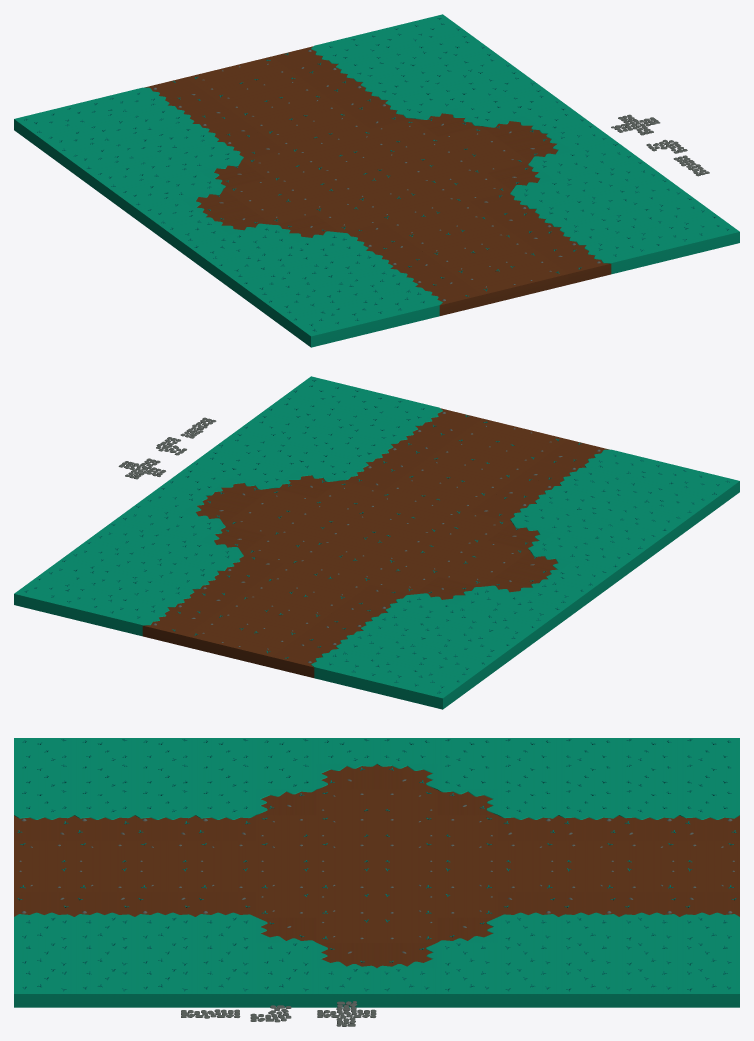
The model's file is ertttt.fbx.
The picture shows the model from 3 angles, top to bottom: view 1: azimuth 30°, elevation 25°; view 2: azimuth 150°, elevation 25°; view 3: azimuth 270°, elevation 25°; orthographic projection. The views are drawn at different scales.
Visible parts, largest first — view 1: corner_grass4, corner_grass3, junction_tiles; view 2: corner_grass3, corner_grass4, junction_tiles; view 3: corner_grass3, corner_grass4, junction_tiles.
Part boxes in pixels (x1,y1,x2,y2): corner_grass4: (162,123,739,347); corner_grass3: (14,14,590,238); junction_tiles: (611,114,660,135); corner_grass3: (14,485,591,709); corner_grass4: (163,376,739,600); junction_tiles: (118,458,165,479); corner_grass3: (377,738,739,1007); corner_grass4: (14,738,376,1007); junction_tiles: (317,1001,376,1026).
Size of the model in its own units: 44.97 by 1.15 by 48.
Materials: 1 (1 with a texture image).
